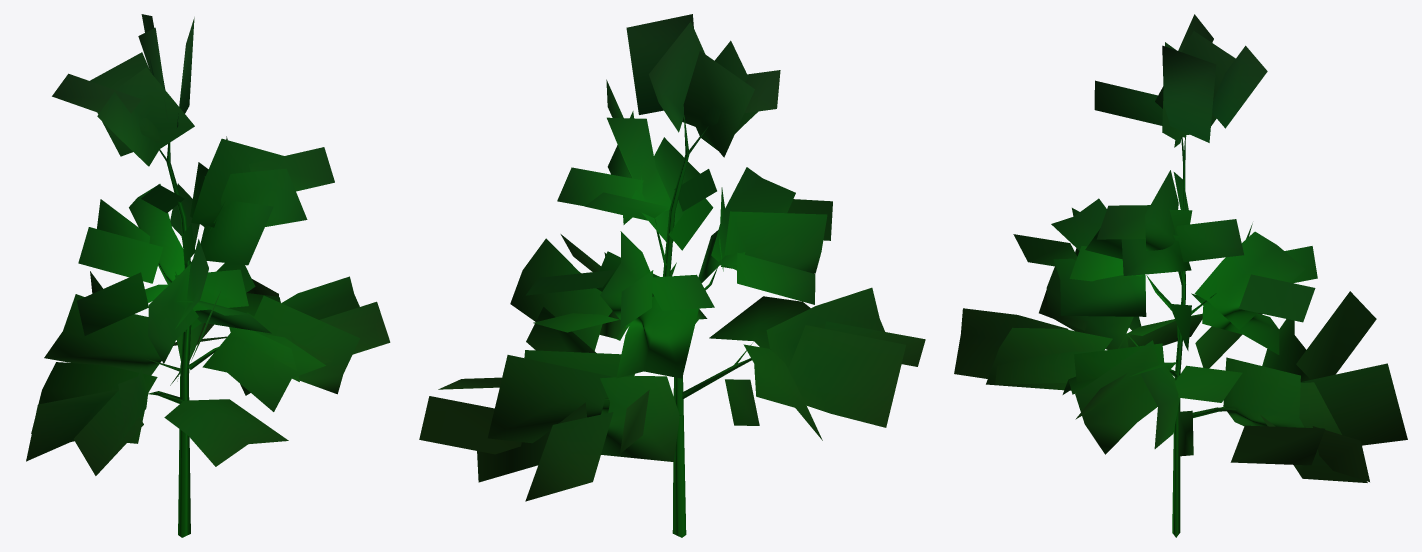
File: env_nature_foliage_smallbirch01_lod1.fbx
3 views of the same model, side by side, from view 1: azimuth 30°, elevation 25°; view 2: azimuth 150°, elevation 25°; view 3: azimuth 270°, elevation 25° (orthographic). The views are drawn at different scales.
Visible parts, largest first — view 1: env_nature_foliage_smallbirch01_lod1; view 2: env_nature_foliage_smallbirch01_lod1; view 3: env_nature_foliage_smallbirch01_lod1.
Boxes of the visible parts, x1,y1,x2,y2 form: env_nature_foliage_smallbirch01_lod1: (26, 14, 390, 537); env_nature_foliage_smallbirch01_lod1: (419, 14, 925, 537); env_nature_foliage_smallbirch01_lod1: (954, 14, 1407, 537).
Size of the model in its own units: 19.84 by 26.91 by 22.38.
